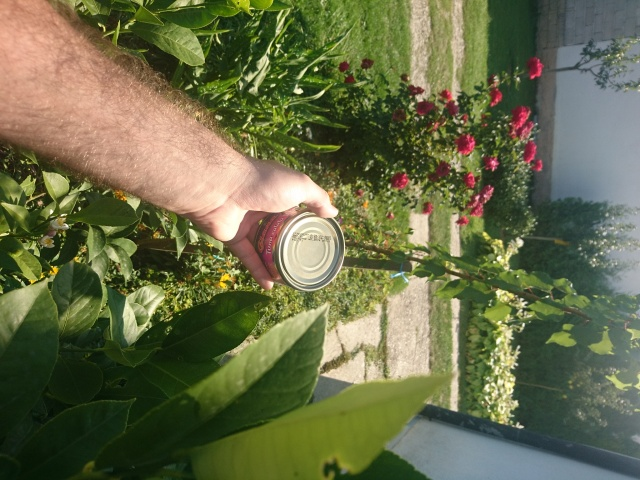Giana Tuna Salad Mexico 185g: (250, 204, 347, 294)
